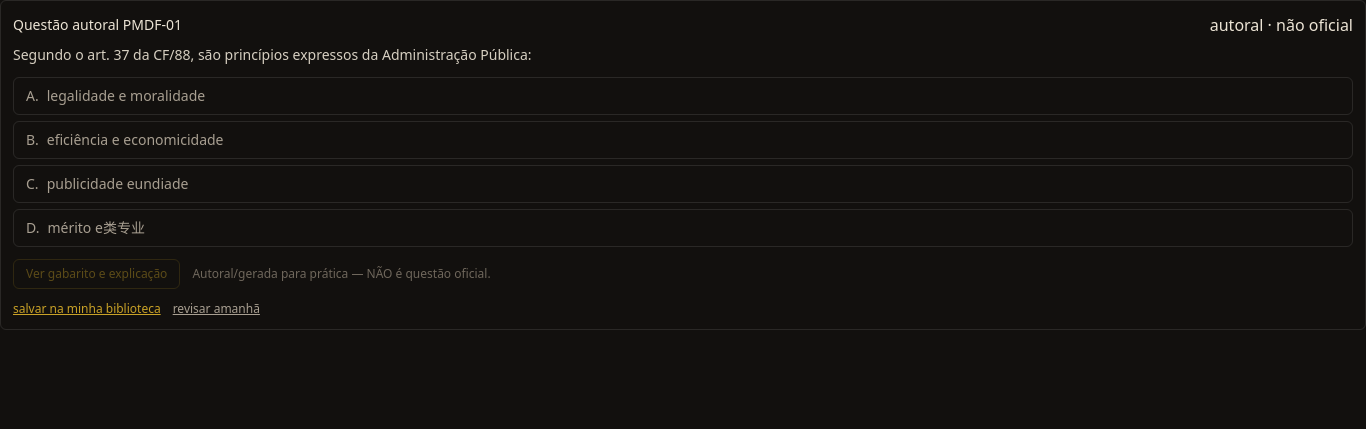
Test case: CatalogQuestion › revela gabarito, explicação e acerto ao escolher a alternativa correta
The width and height of the screenshot is (1366, 429).
Click the button "A.legalidade e moralidade".
click(126, 96)  # box [13,77,1353,115]
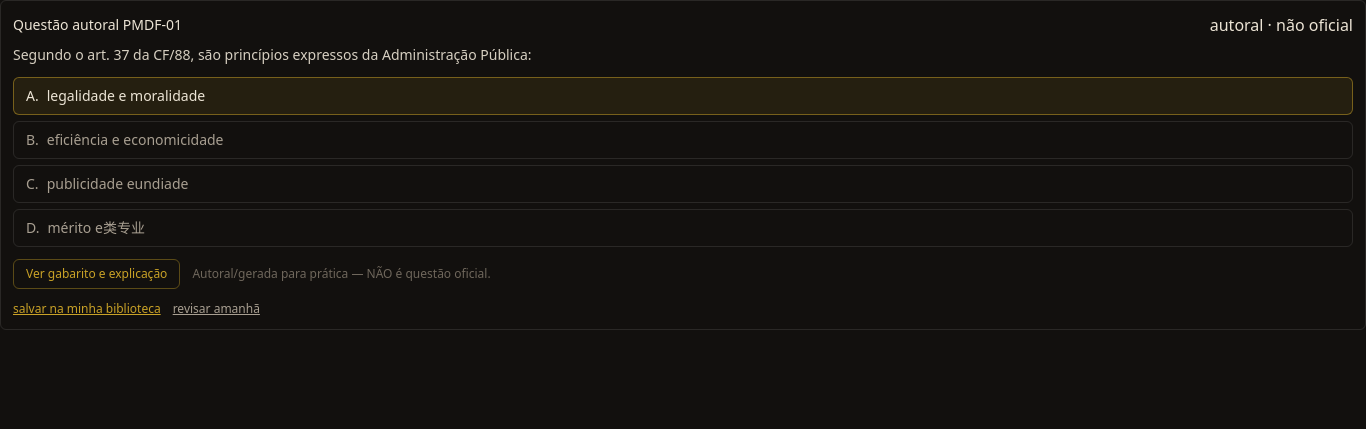
Result: the button "Ver gabarito e explicação" is enabled
Click the button "Ver gabarito e explicação".
click(97, 274)  # box [13,259,180,289]
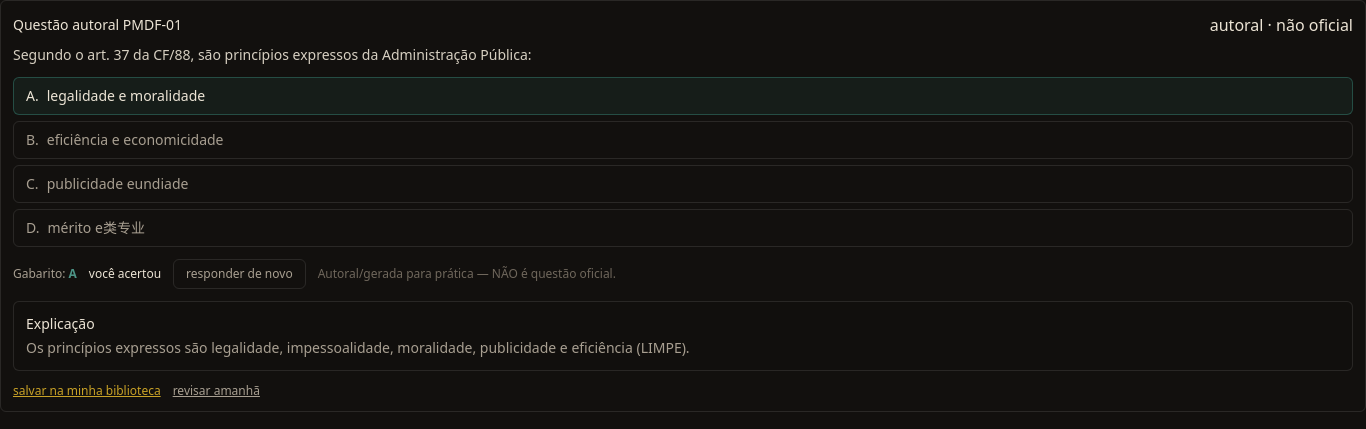
Result: the text "você acertou" is shown at [89,266,161,282]
Result: the text "Gabarito: A" is shown at [13,266,77,282]
Result: the text "Os princípios expressos são legalidade, impessoalidade, moralidade, publicidade e eficiência (LIMPE)." is shown at [26,338,690,357]
